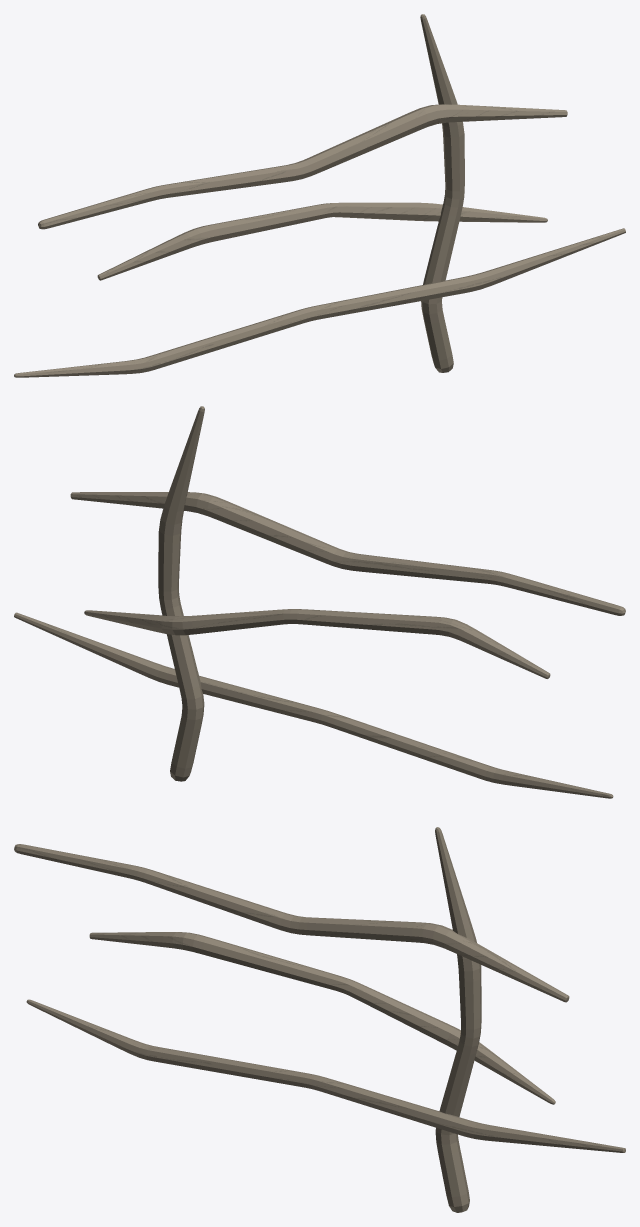
The model's file is valla parcial 3.fbx.
3 views of the same model, one above another, from view 1: azimuth 30°, elevation 25°; view 2: azimuth 150°, elevation 25°; view 3: azimuth 330°, elevation 25° (orthographic). The views are drawn at different scales.
Parts seen in each view (by area): view 1: Vert.058; view 2: Vert.058; view 3: Vert.058.
Part boxes in pixels (box(x1,y1,x2,y2)): Vert.058: box(14, 14, 625, 377); Vert.058: box(14, 406, 625, 798); Vert.058: box(14, 827, 625, 1212).
Size of the model in its own units: 936 by 549 by 71.19.
